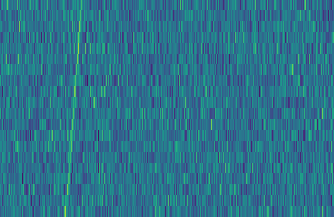signal: (59, 0, 85, 217)
